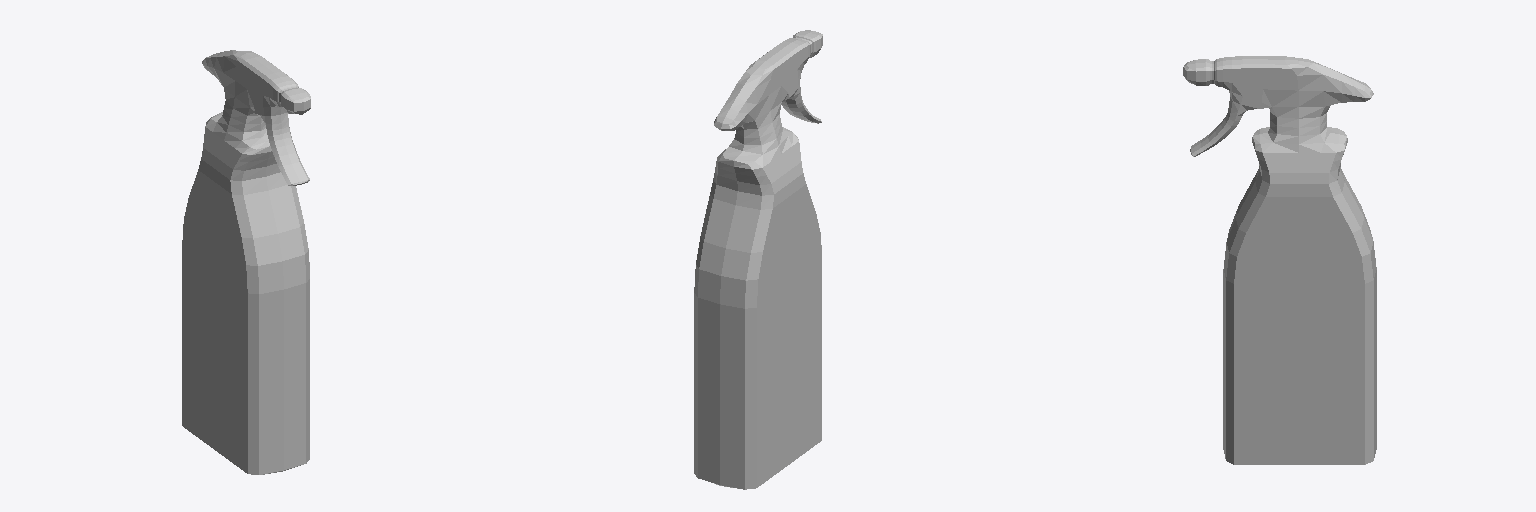
Rendered from Spray Bottle.obj.
3 views of the same model, side by side, from view 1: azimuth 30°, elevation 25°; view 2: azimuth 150°, elevation 25°; view 3: azimuth 270°, elevation 25° (orthographic).
Visible parts, largest first — view 1: pCube1; view 2: pCube1; view 3: pCube1.
Part boxes in pixels (x1,y1,x2,y2): pCube1: (182,50,310,474); pCube1: (694,30,822,489); pCube1: (1183,56,1376,464).
Bounding box in the file's own units: 0.7721 × 4.63 × 2.06.